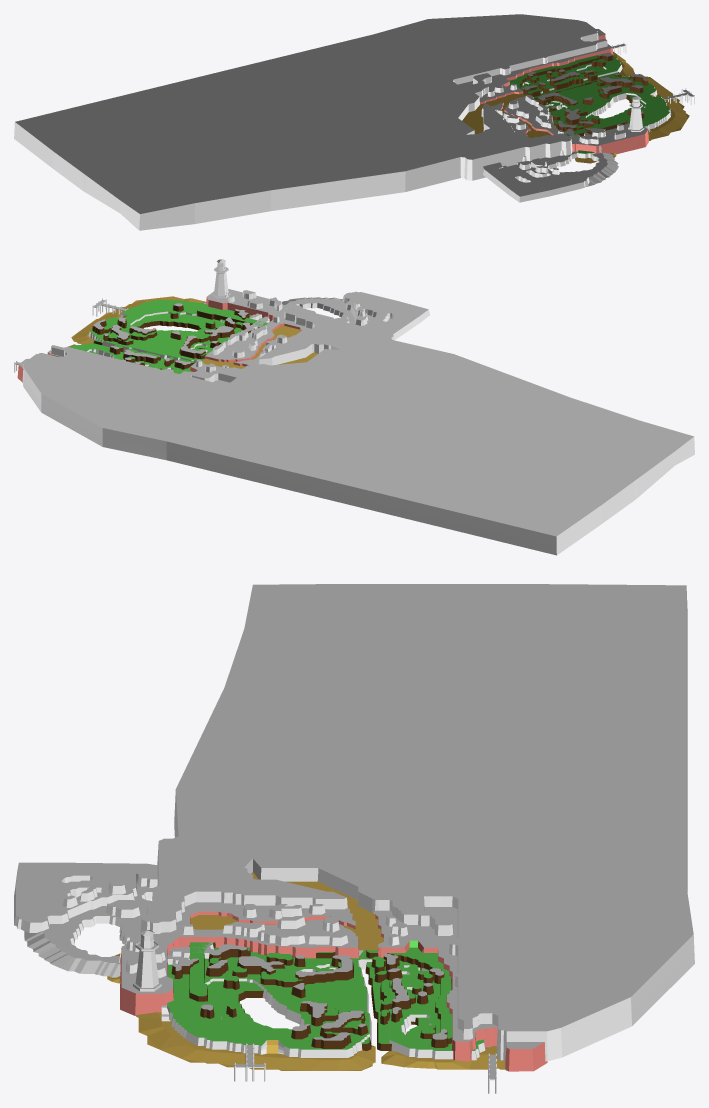
Rendered from new_old_mape.glb.
3 views of the same model, one above another, from view 1: azimuth 30°, elevation 25°; view 2: azimuth 150°, elevation 25°; view 3: azimuth 270°, elevation 25° (orthographic). The views are drawn at different scales.
Visible parts, largest first — view 1: expanded_main, main001, Plane, grass-zone, lighthouse; view 2: expanded_main, main001, Plane, grass-zone, lighthouse; view 3: expanded_main, main001, Plane, grass-zone, lighthouse, docks.
Part boxes in pixels (x1=…): expanded_main: x1=14, y1=14, x2=689, y2=230; main001: x1=482, y1=128, x2=618, y2=202; Plane: x1=508, y1=54, x2=645, y2=136; grass-zone: x1=408, y1=104, x2=567, y2=170; lighthouse: x1=628, y1=96, x2=644, y2=131; expanded_main: x1=17, y1=289, x2=694, y2=555; main001: x1=249, y1=291, x2=429, y2=340; Plane: x1=79, y1=308, x2=267, y2=373; grass-zone: x1=261, y1=305, x2=450, y2=358; lighthouse: x1=212, y1=259, x2=230, y2=298; expanded_main: x1=107, y1=584, x2=694, y2=1071; main001: x1=14, y1=862, x2=214, y2=977; Plane: x1=189, y1=942, x2=452, y2=1050; grass-zone: x1=142, y1=790, x2=345, y2=922; lighthouse: x1=133, y1=930, x2=161, y2=991; docks: x1=234, y1=1043, x2=496, y2=1093.
Bounding box in the file's own units: 388 × 34.1 × 239.
